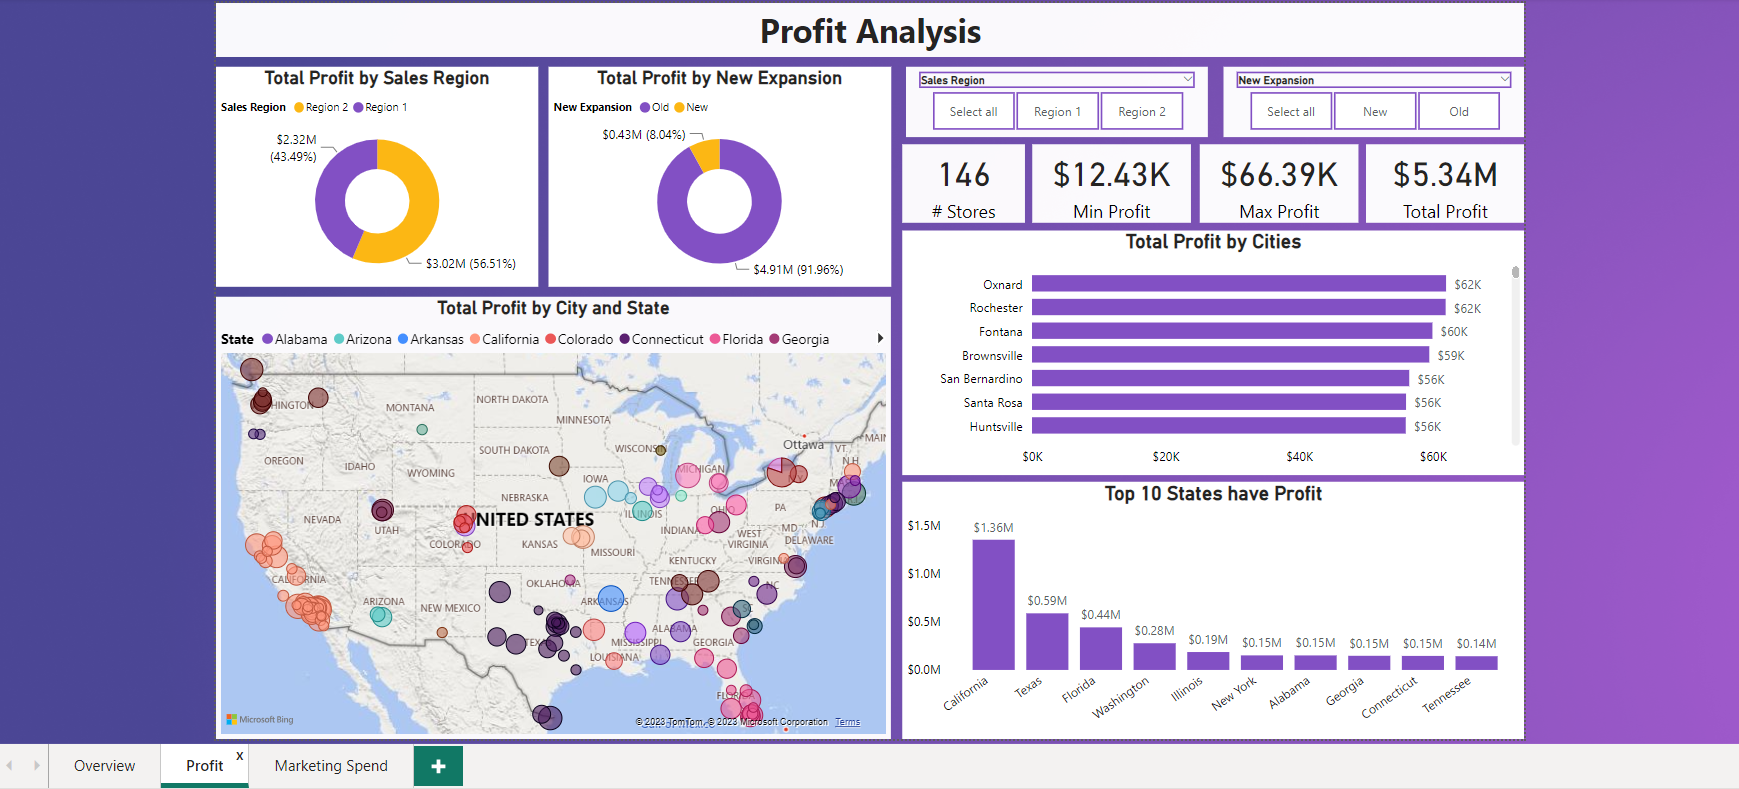

The dashboard page shown, as its layout file describes it:
{"tool":"powerbi","page":{"name":"Profit","canvas":[1280,720],"ordinal":1},"visuals":[{"type":"textbox","box":[0,0,1279.9,52.6],"z":0},{"type":"card","fields":{"Values":["startup-expansion-modified.Total Profit"]},"box":[1124.7,137.8,155.2,77],"z":1000},{"type":"card","fields":{"Values":["startup-expansion-modified.Min Profit"]},"box":[798.8,137.8,155.2,77],"z":2000},{"type":"card","fields":{"Values":["startup-expansion-modified.Max Profit"]},"box":[961.8,137.8,155.2,77],"z":3000},{"type":"card","fields":{"Values":["startup-expansion-modified.# Stores"]},"box":[671.1,137.8,120,77],"z":4000},{"type":"map","title":"Total Profit by City and State","fields":{"Category":["startup-expansion-modified.city"],"Series":["startup-expansion-modified.state"],"Size":["startup-expansion-modified.Total Profit"]},"box":[0,287.3,660.1,432.7],"z":5000},{"type":"donutChart","title":"Total Profit by Sales Region","fields":{"Y":["startup-expansion-modified.Total Profit"],"Category":["startup-expansion-modified.sales_region"]},"box":[0,62.3,315,215.1],"z":6000},{"type":"donutChart","title":"Total Profit by New Expansion","fields":{"Y":["startup-expansion-modified.Total Profit"],"Category":["startup-expansion-modified.new_expansion"]},"box":[325.2,62.3,334.9,215.1],"z":7000},{"type":"clusteredColumnChart","title":"Top 10 States have Profit","fields":{"Category":["startup-expansion-modified.state"],"Y":["startup-expansion-modified.Total Profit"]},"box":[671.1,468.2,608.8,251.8],"z":8000},{"type":"clusteredBarChart","title":"Total Profit by Cities","fields":{"Category":["startup-expansion-modified.city"],"Y":["startup-expansion-modified.Total Profit"]},"box":[671.1,222.5,608.8,239.6],"z":9000},{"type":"slicer","fields":{"Values":["startup-expansion-modified.new_expansion"]},"box":[985.4,62.3,294.6,68.5],"z":10000},{"type":"slicer","fields":{"Values":["startup-expansion-modified.sales_region"]},"box":[674.8,62.3,295,68.5],"z":11000}]}

Visuals, with their boxes on the page's 1280x720 design canvas (x1, y1, x2, y2). These are canvas units, not pixel positions in the 1739x789 screenshot, which may show the page scaled, cropped or inside an application window:
textbox: (0, 0, 1280, 53)
card - startup-expansion-modified.Total Profit: (1125, 138, 1280, 215)
card - startup-expansion-modified.Min Profit: (799, 138, 954, 215)
card - startup-expansion-modified.Max Profit: (962, 138, 1117, 215)
card - startup-expansion-modified.# Stores: (671, 138, 791, 215)
"Total Profit by City and State" map: (0, 287, 660, 720)
"Total Profit by Sales Region" donutChart: (0, 62, 315, 277)
"Total Profit by New Expansion" donutChart: (325, 62, 660, 277)
"Top 10 States have Profit" clusteredColumnChart: (671, 468, 1280, 720)
"Total Profit by Cities" clusteredBarChart: (671, 222, 1280, 462)
slicer - startup-expansion-modified.new_expansion: (985, 62, 1280, 131)
slicer - startup-expansion-modified.sales_region: (675, 62, 970, 131)
